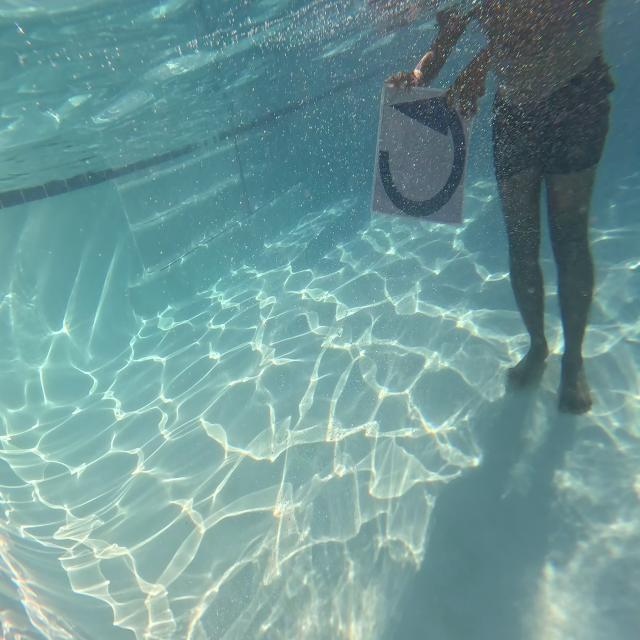blue_side: (376, 71, 471, 230)
